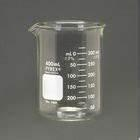Beaker: (27, 11, 108, 126)
